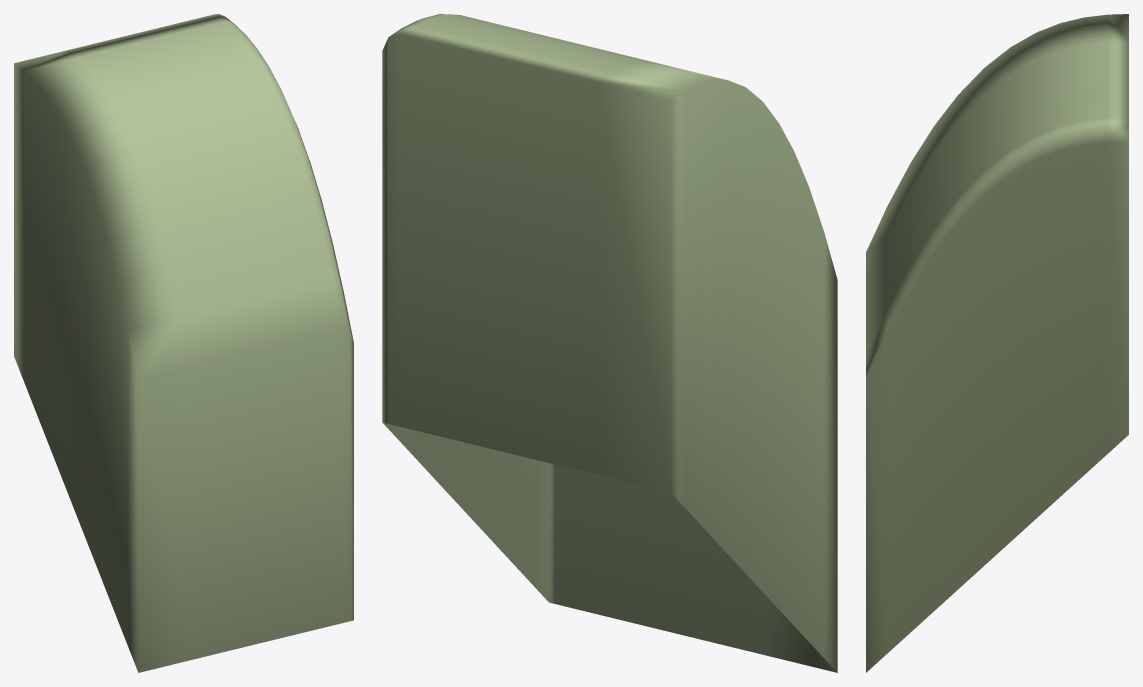
File: ground-ramp-r-30.glb
3 renders of one model, left to right at view 1: azimuth 30°, elevation 25°; view 2: azimuth 150°, elevation 25°; view 3: azimuth 270°, elevation 25°, orthographic. The views are drawn at different scales.
Visible parts, largest first — view 1: ground-ramp-r-30; view 2: ground-ramp-r-30; view 3: ground-ramp-r-30.
Part boxes in pixels (<box>): ground-ramp-r-30: <box>14,14,353,672</box>; ground-ramp-r-30: <box>382,14,837,672</box>; ground-ramp-r-30: <box>866,14,1128,672</box>.
Bounding box in the file's own units: 1 × 2.3 × 1.
